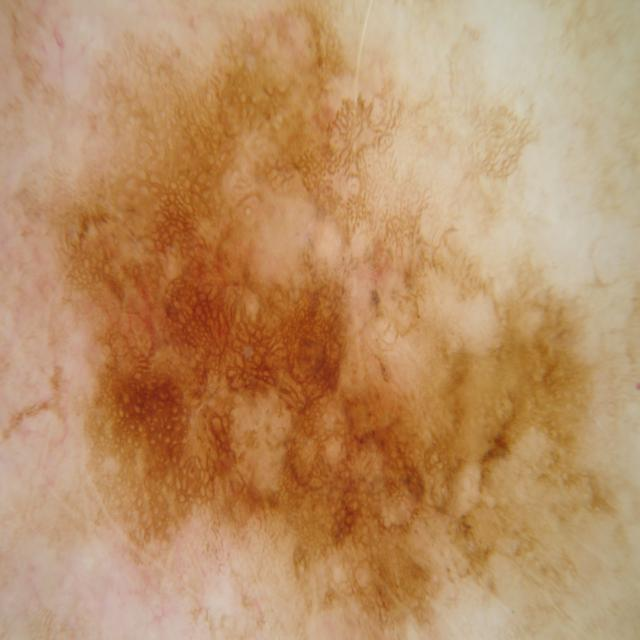Skin-Cancer Melanoma: (0, 4, 640, 640)
